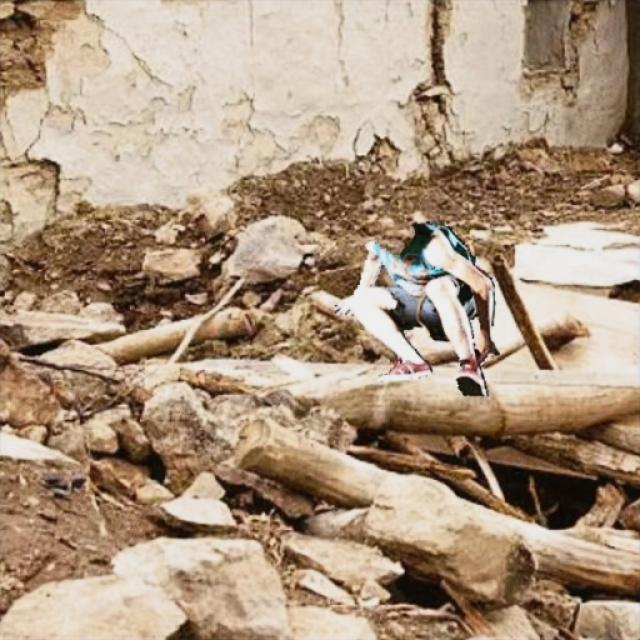Person in Rubble: (335, 221, 499, 395)
